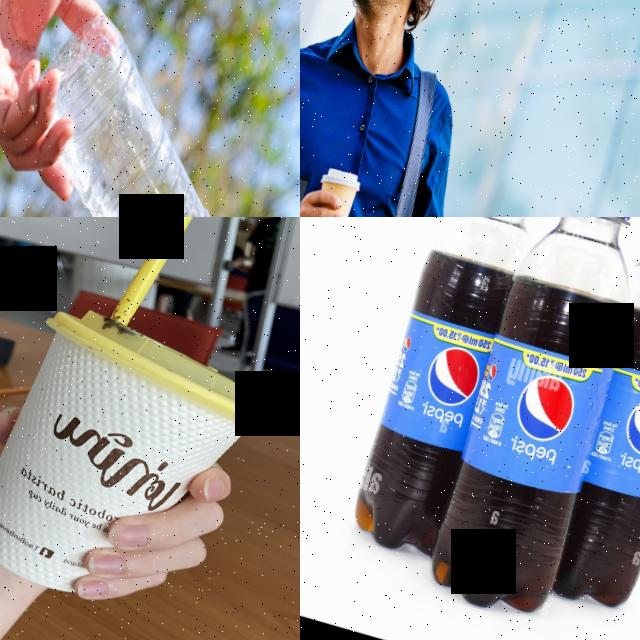bottle: (423, 217, 640, 628), (343, 217, 550, 567), (0, 0, 300, 217), (542, 217, 640, 618)
cup: (0, 293, 288, 635), (300, 158, 366, 217)
